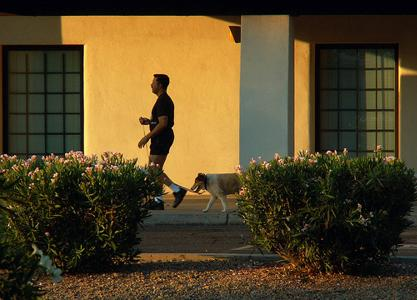person: (138, 73, 188, 209)
